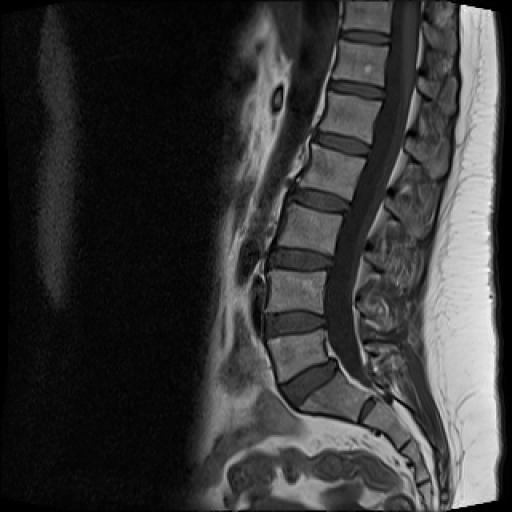L1: (320, 92, 381, 142)
L2: (301, 143, 365, 200)
L3: (278, 204, 342, 254)
L4: (268, 271, 324, 312)
L5: (268, 330, 328, 380)
S1: (300, 371, 370, 422)
